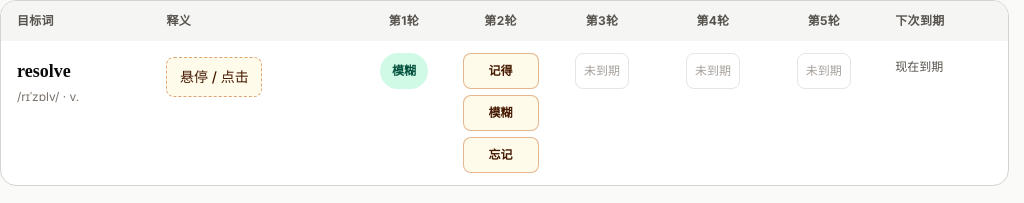
Test: StoryReviewTable › submits 忘记 with the exact forgotten identifier
The width and height of the screenshot is (1024, 203).
What coordinates should you click on to do the following:
click the button with aria-label "resolve 第2轮：忘记"
I would click on:
 (501, 155)
Its box is [463,137,538,173].
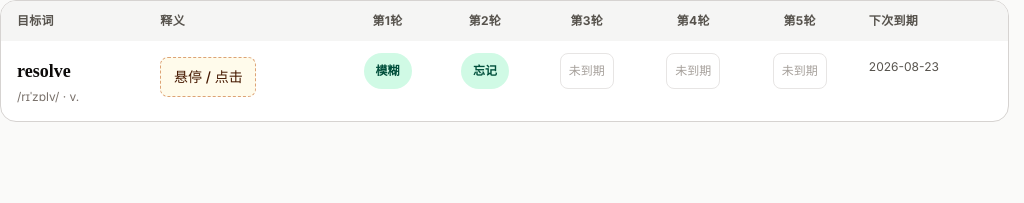
Expected: the cell "忘记" is shown, [436,41,534,121]
Expected: the row "resolve /rɪˈzɒlv/ · v. 悬停 / 点击 模糊 忘记 未到期 未到期 未到期 2026-08-23" is shown, [1,41,1008,121]
